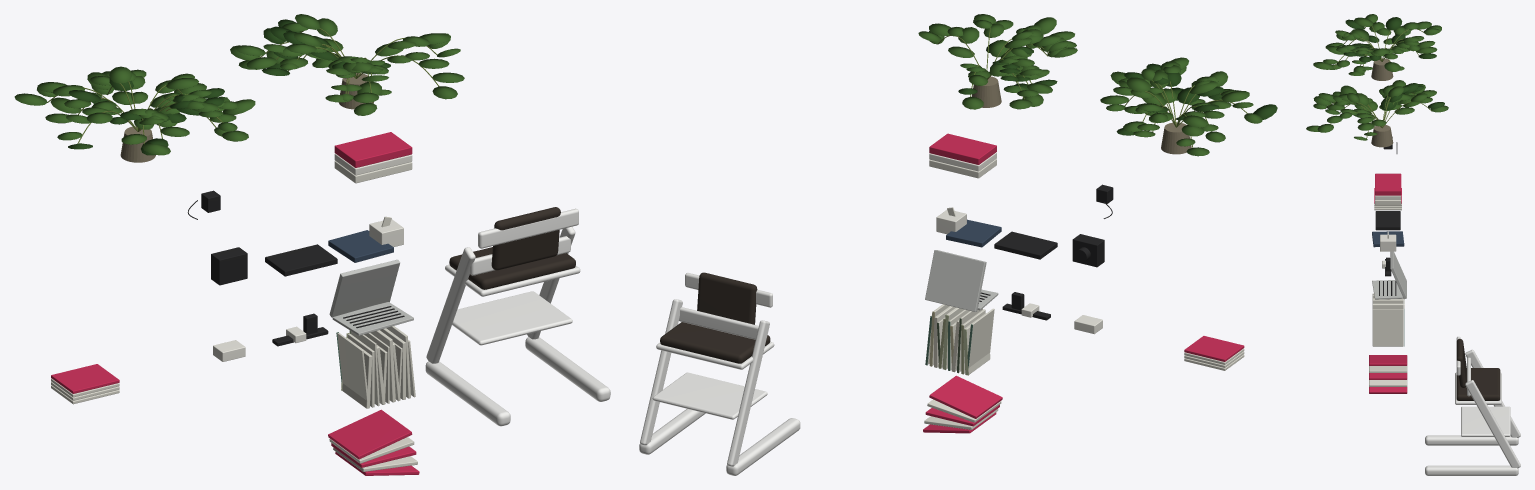
The picture shows the model from 3 angles, left to right: view 1: azimuth 30°, elevation 25°; view 2: azimuth 150°, elevation 25°; view 3: azimuth 270°, elevation 25°; orthographic projection. The views are drawn at different scales.
Visible parts, largest first — view 1: white-inclined-chair27 / footrest board, observed inclined silver board, white-inclined-chair27 / back gray cushion, observed red folder4, white-inclined-chair27 / seat pad, upper stack box2, white-inclined-chair27 / long floor runner.001, white-inclined-chair27 / long floor runner, white-inclined-chair27 / inclined side rail.001, white-inclined-chair27 / back support upper crossbar, observed flat dark device, observed keyboard base slab (+9 smaller); view 2: white-inclined-chair27 / footrest board, observed inclined silver board, white-inclined-chair27 / seat pad, white-inclined-chair27 / back gray cushion, observed red folder4, white-inclined-chair27 / inclined side rail.001, upper stack box2, white-inclined-chair27 / inclined side rail, white-inclined-chair27 / long floor runner.001, white-inclined-chair27 / back support lower crossbar, observed flat dark device, white-inclined-chair27 / long floor runner (+6 smaller); view 3: white-inclined-chair27 / footrest board, visible magazine 1 paper, white-inclined-chair27 / seat pad, white-inclined-chair27 / inclined side rail, white-inclined-chair27 / long floor runner, white-inclined-chair27 / long floor runner.001, upper stack box2, observed flat dark device, observed keyboard base slab, observed red folder4, observed inclined silver board, plant0 concealed pot candidate (+10 smaller).
Part boxes in pixels (x1=…): white-inclined-chair27 / footrest board: x1=452, y1=291, x2=572, y2=345; observed inclined silver board: x1=329, y1=259, x2=400, y2=317; white-inclined-chair27 / back gray cushion: x1=491, y1=207, x2=560, y2=270; observed red folder4: x1=328, y1=409, x2=412, y2=459; white-inclined-chair27 / seat pad: x1=449, y1=247, x2=575, y2=289; upper stack box2: x1=334, y1=132, x2=412, y2=167; white-inclined-chair27 / long floor runner.001: x1=425, y1=361, x2=510, y2=426; white-inclined-chair27 / long floor runner: x1=525, y1=337, x2=610, y2=401; white-inclined-chair27 / inclined side rail.001: x1=426, y1=247, x2=475, y2=363; white-inclined-chair27 / back support upper crossbar: x1=478, y1=208, x2=578, y2=248; observed flat dark device: x1=265, y1=244, x2=337, y2=276; observed keyboard base slab: x1=332, y1=302, x2=413, y2=335; white-inclined-chair27 / footrest board: x1=652, y1=372, x2=767, y2=419; observed inclined silver board: x1=925, y1=250, x2=986, y2=311; white-inclined-chair27 / seat pad: x1=660, y1=322, x2=770, y2=363; white-inclined-chair27 / back gray cushion: x1=697, y1=272, x2=757, y2=324; observed red folder4: x1=929, y1=375, x2=1002, y2=418; white-inclined-chair27 / inclined side rail.001: x1=727, y1=320, x2=769, y2=466; upper stack box2: x1=929, y1=133, x2=996, y2=164; white-inclined-chair27 / inclined side rail: x1=640, y1=299, x2=682, y2=445; white-inclined-chair27 / long floor runner.001: x1=726, y1=418, x2=800, y2=475; white-inclined-chair27 / back support lower crossbar: x1=679, y1=307, x2=758, y2=339; observed flat dark device: x1=994, y1=231, x2=1057, y2=259; white-inclined-chair27 / long floor runner: x1=639, y1=409, x2=705, y2=454; white-inclined-chair27 / footrest board: x1=1461, y1=406, x2=1510, y2=436; visible magazine 1 paper: x1=1372, y1=309, x2=1403, y2=346; white-inclined-chair27 / seat pad: x1=1456, y1=368, x2=1500, y2=400; white-inclined-chair27 / inclined side rail: x1=1465, y1=380, x2=1520, y2=468; white-inclined-chair27 / long floor runner: x1=1425, y1=465, x2=1518, y2=475; white-inclined-chair27 / long floor runner.001: x1=1425, y1=435, x2=1518, y2=445; upper stack box2: x1=1375, y1=173, x2=1401, y2=195; observed flat dark device: x1=1375, y1=211, x2=1400, y2=230; observed keyboard base slab: x1=1372, y1=280, x2=1403, y2=299; observed red folder4: x1=1369, y1=355, x2=1407, y2=365; observed inclined silver board: x1=1390, y1=251, x2=1406, y2=299; plant0 concealed pot candidate: x1=1371, y1=125, x2=1393, y2=147.
Size of the model in its own units: 2.94 by 2.17 by 1.47.
